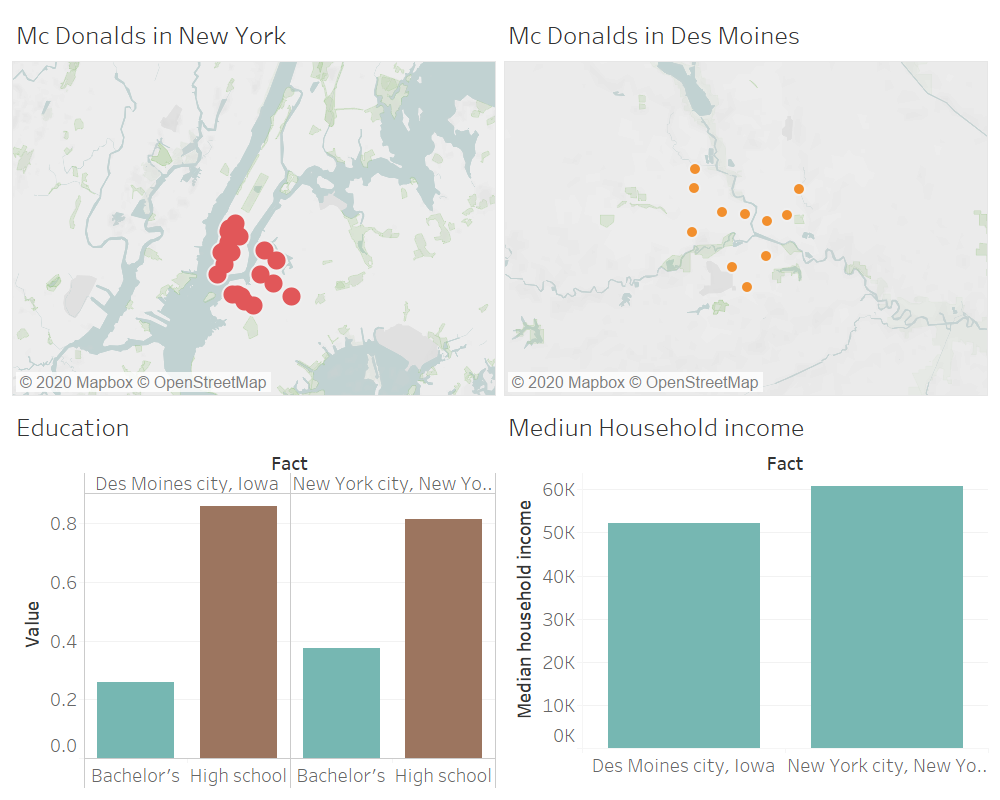

Layout of this report page (visuals, bound fields, positions):
{"tool":"tableau","page":{"name":"DM to NY Comparision","canvas":[1000,800],"ordinal":1},"visuals":[{"type":"worksheet","title":"McDonalds","mark":"Automatic","rows":["latitude"],"cols":["longitude"],"box":[8,8,492,392]},{"type":"worksheet","title":"DM MD","mark":"Automatic","rows":["latitude"],"cols":["longitude"],"box":[500,8,492,392]},{"type":"worksheet","title":"Education","mark":"Automatic","cols":["Fact"],"box":[8,400,492,392]},{"type":"worksheet","title":"Medi HouseHold Income","mark":"Bar","rows":["Median household income (in 2018 dollars), 2014-2018"],"cols":["Fact"],"box":[500,400,492,392]}]}

Visuals, with their boxes in screenshot pixels (x1, y1, x2, y2), scaled from the page's 1000x800 canvas onto the 1000x800 screenshot:
"McDonalds" worksheet: rect(8, 8, 500, 400)
"DM MD" worksheet: rect(500, 8, 992, 400)
"Education" worksheet: rect(8, 400, 500, 792)
"Medi HouseHold Income" worksheet (Bar marks): rect(500, 400, 992, 792)
